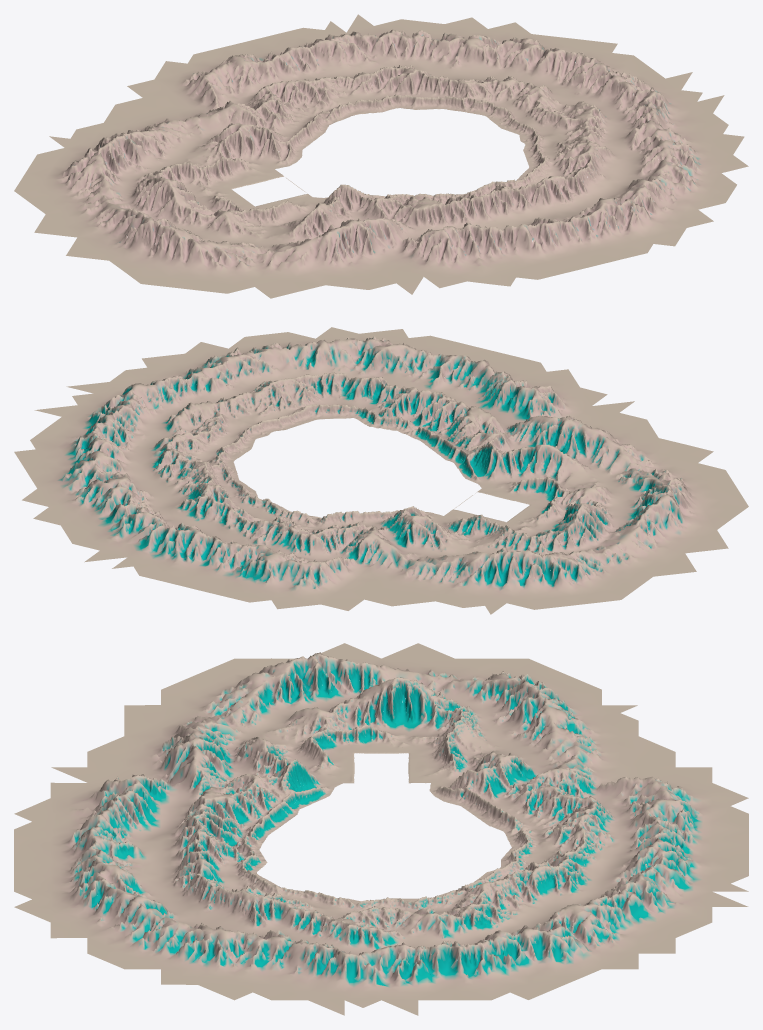
The model's file is BasinExpanse.glb.
3 views of the same model, one above another, from view 1: azimuth 30°, elevation 25°; view 2: azimuth 150°, elevation 25°; view 3: azimuth 270°, elevation 25° (orthographic). The views are drawn at different scales.
Visible parts, largest first — view 1: BasinExpanse_F-3_1, BasinExpanse_F-3_-2, BasinExpanse_F-4_0, BasinExpanse_F-4_-1, BasinExpanse_F-3_0, BasinExpanse_F-3_-1, BasinExpanse_F-2_2, BasinExpanse_N2_1, BasinExpanse_F-4_1, BasinExpanse_N-2_3, BasinExpanse_N1_2, BasinExpanse_N-1_3 (+62 smaller); view 2: BasinExpanse_F-3_-2, BasinExpanse_F-3_1, BasinExpanse_F-4_-1, BasinExpanse_F-4_0, BasinExpanse_F-3_-1, BasinExpanse_F-3_0, BasinExpanse_F-2_-3, BasinExpanse_N1_-3, BasinExpanse_N-3_3, BasinExpanse_N2_-1, BasinExpanse_N2_-2, BasinExpanse_N-4_-3 (+63 smaller); view 3: BasinExpanse_F-3_1, BasinExpanse_F-4_-1, BasinExpanse_F-4_0, BasinExpanse_F-3_-2, BasinExpanse_F-3_0, BasinExpanse_F-3_-1, BasinExpanse_F-4_1, BasinExpanse_F-2_2, BasinExpanse_F-2_-3, BasinExpanse_F-4_-2, BasinExpanse_N1_-1, BasinExpanse_N-1_2 (+65 smaller).
Boxes of the visible parts, x1,y1,x2,y2 form: BasinExpanse_F-3_1: (583,140,724,223); BasinExpanse_F-3_-2: (369,17,533,80); BasinExpanse_F-4_0: (599,85,743,148); BasinExpanse_F-4_-1: (536,44,692,108); BasinExpanse_F-3_0: (544,101,660,164); BasinExpanse_F-3_-1: (460,45,598,113); BasinExpanse_F-2_2: (522,215,647,279); BasinExpanse_N2_1: (137,224,222,277); BasinExpanse_F-4_1: (666,136,748,202); BasinExpanse_N-2_3: (420,222,505,268); BasinExpanse_N1_2: (223,244,309,286); BasinExpanse_N-1_3: (365,232,450,283); BasinExpanse_F-3_-2: (33,453,175,541); BasinExpanse_F-3_1: (225,332,391,384); BasinExpanse_F-4_-1: (14,399,159,464); BasinExpanse_F-4_0: (66,358,221,423); BasinExpanse_F-3_-1: (97,416,214,487); BasinExpanse_F-3_0: (161,361,296,429); BasinExpanse_F-2_-3: (112,533,237,595); BasinExpanse_N1_-3: (452,548,537,603); BasinExpanse_N-3_3: (427,355,497,406); BasinExpanse_N2_-1: (571,518,657,569); BasinExpanse_N2_-2: (539,549,625,593); BasinExpanse_N-4_-3: (175,482,262,532); BasinExpanse_F-3_1: (87,867,234,953); BasinExpanse_F-4_-1: (381,930,528,1015); BasinExpanse_F-4_0: (234,933,381,1015); BasinExpanse_F-3_-2: (528,870,675,953); BasinExpanse_F-3_0: (234,889,381,951); BasinExpanse_F-3_-1: (381,901,528,948); BasinExpanse_F-4_1: (88,932,234,999); BasinExpanse_F-2_2: (14,829,87,891); BasinExpanse_F-2_-3: (675,828,748,891); BasinExpanse_F-4_-2: (528,932,638,999); BasinExpanse_N1_-1: (381,677,454,736); BasinExpanse_N-1_2: (161,736,234,794).
Bounding box in the file's own units: 1536 × 69.61 × 1280.
